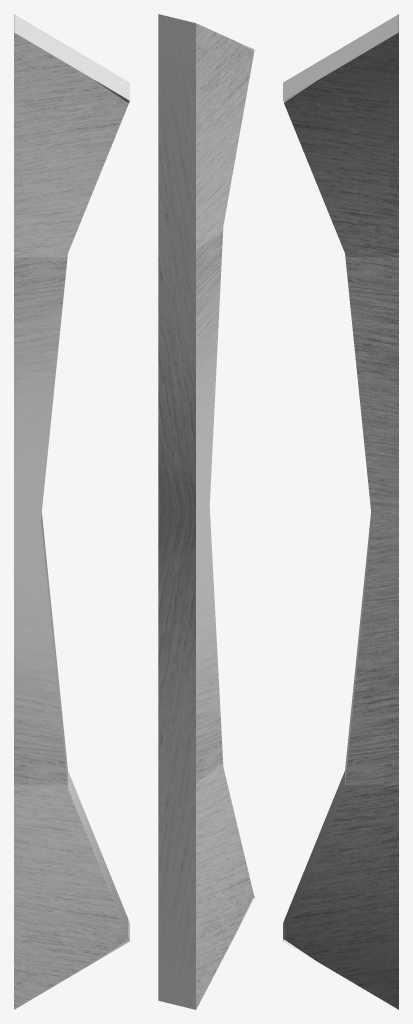
File: touch_4.obj
The picture shows the model from 3 angles, left to right: view 1: azimuth 90°, elevation 25°; view 2: azimuth 150°, elevation 25°; view 3: azimuth 270°, elevation 25°; orthographic projection.
Visible parts, largest first — view 1: nose; view 2: nose; view 3: nose.
Boxes of the visible parts, box(x1,y1,x2,y2) form: nose: box(14, 14, 129, 1009); nose: box(158, 14, 254, 1009); nose: box(283, 14, 398, 1009).
Size of the model in its own units: 11.81 by 294 by 31.63.
Materials: 1 (1 with a texture image).
